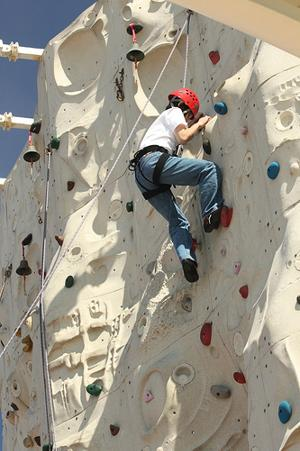person: (134, 86, 225, 286)
